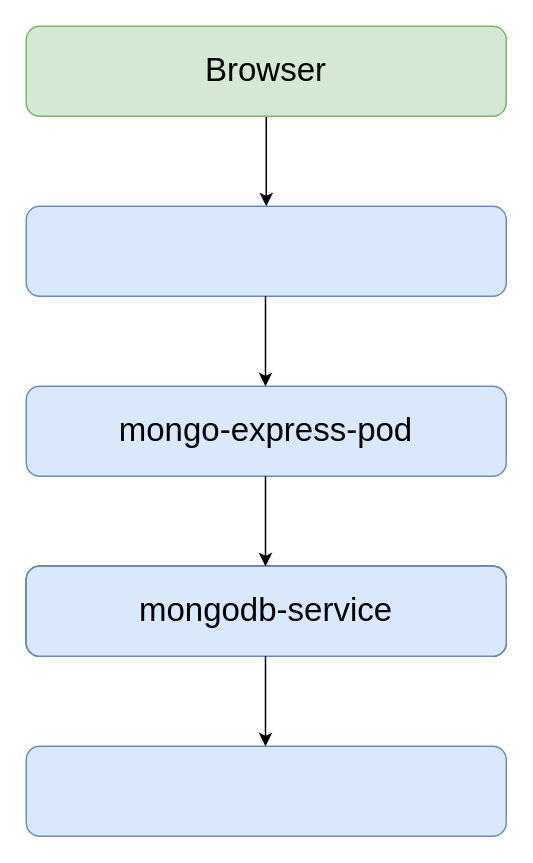
This 533x863 diagram has some shape labels left out. The centre of each missing label's shape, as x and y in pixels:
"mongo-express-service" goes at pixel 265 250.
"mongodb-pod" goes at pixel 265 790.
